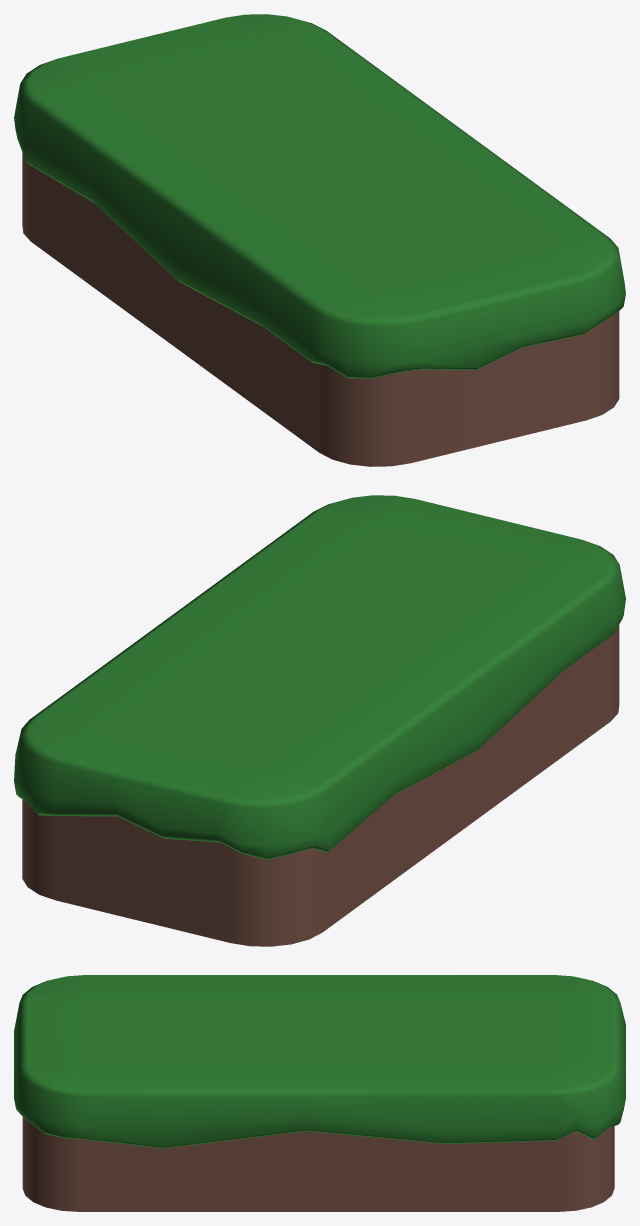
3 renders of one model, top to bottom at view 1: azimuth 30°, elevation 25°; view 2: azimuth 150°, elevation 25°; view 3: azimuth 270°, elevation 25°, orthographic. The views are drawn at different scales.
Parts seen in each view (by area): view 1: base_01; view 2: base_01; view 3: base_01.
Boxes of the visible parts, left/top/right/bottom form: base_01: left=14, top=14, right=625, bottom=466; base_01: left=14, top=495, right=625, bottom=946; base_01: left=14, top=975, right=625, bottom=1211.
Size of the model in its own units: 982 by 445 by 2042.
1 material, 1 textured.
